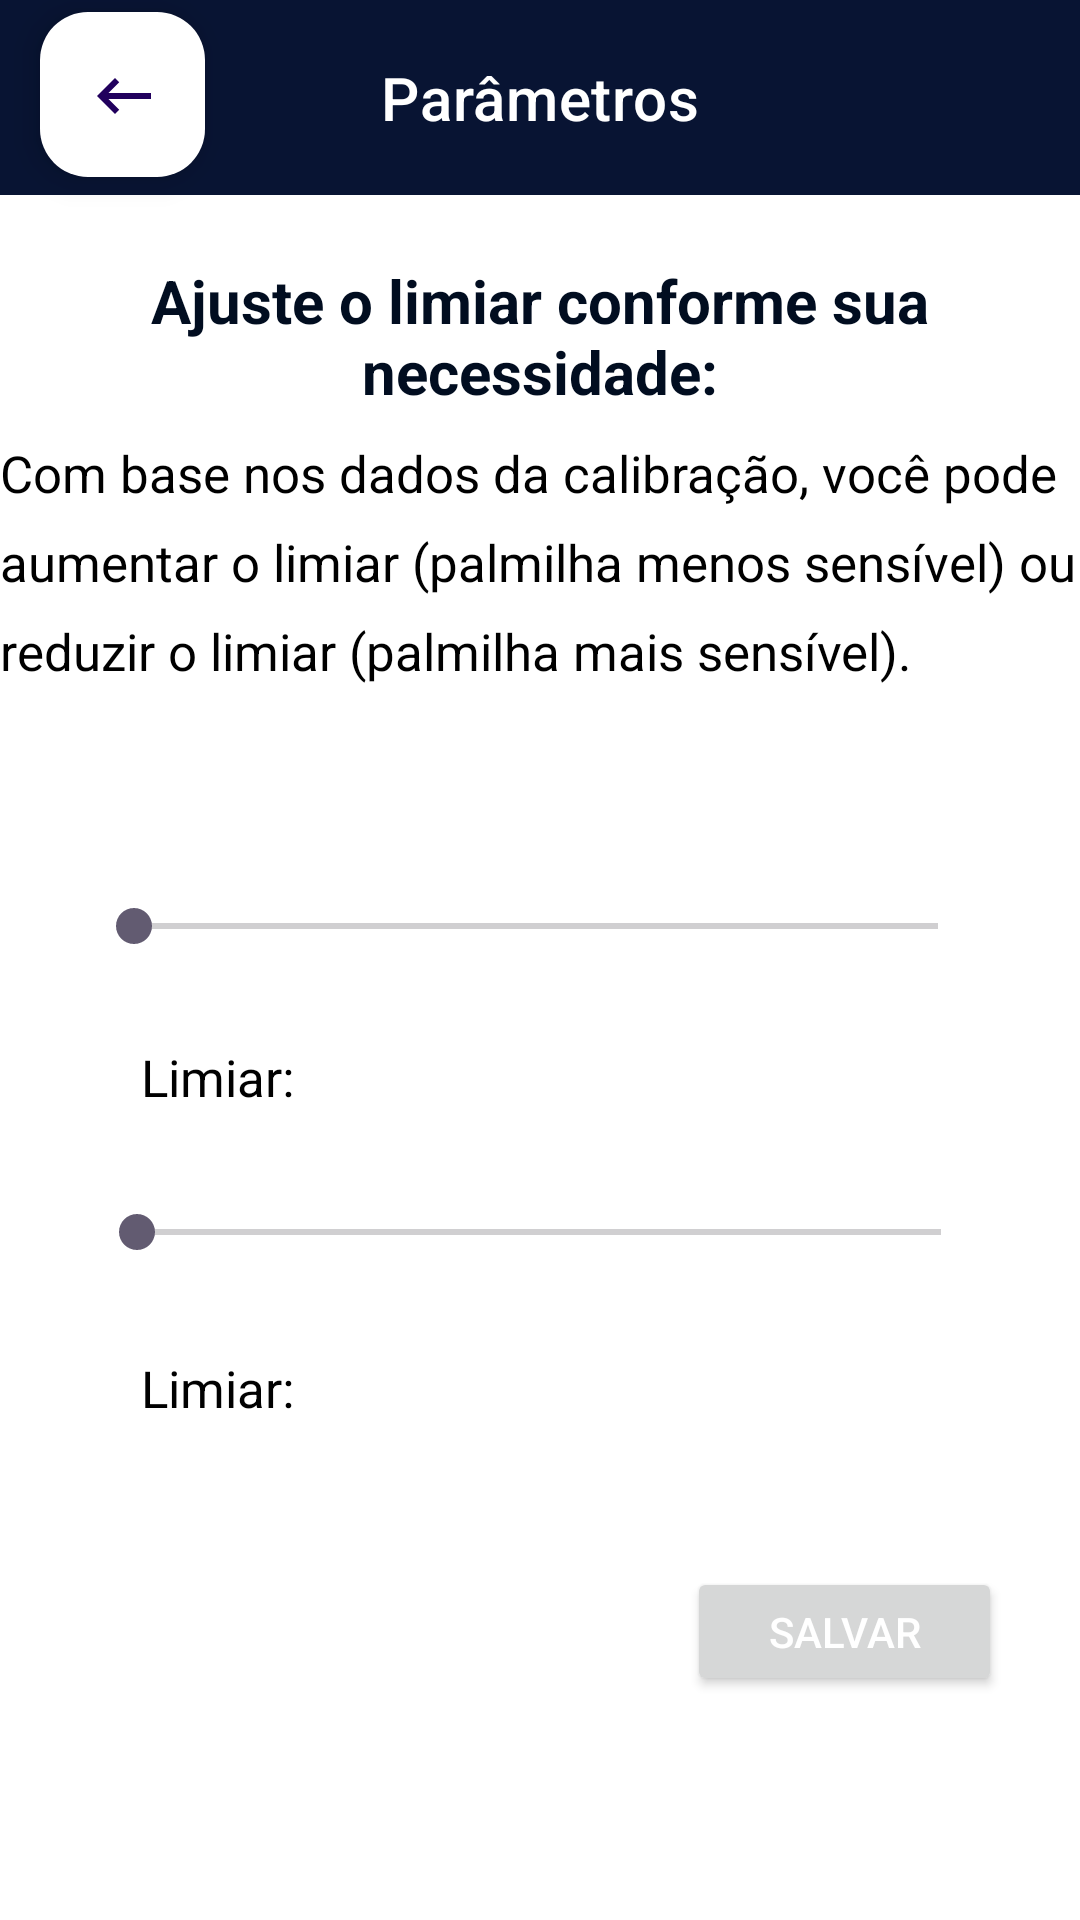

Icon bounding boxes for this 1080w x 1920h phone screenshot, format (x1, y1, x2, y2):
keyboard backspace: (40, 12, 205, 177)
